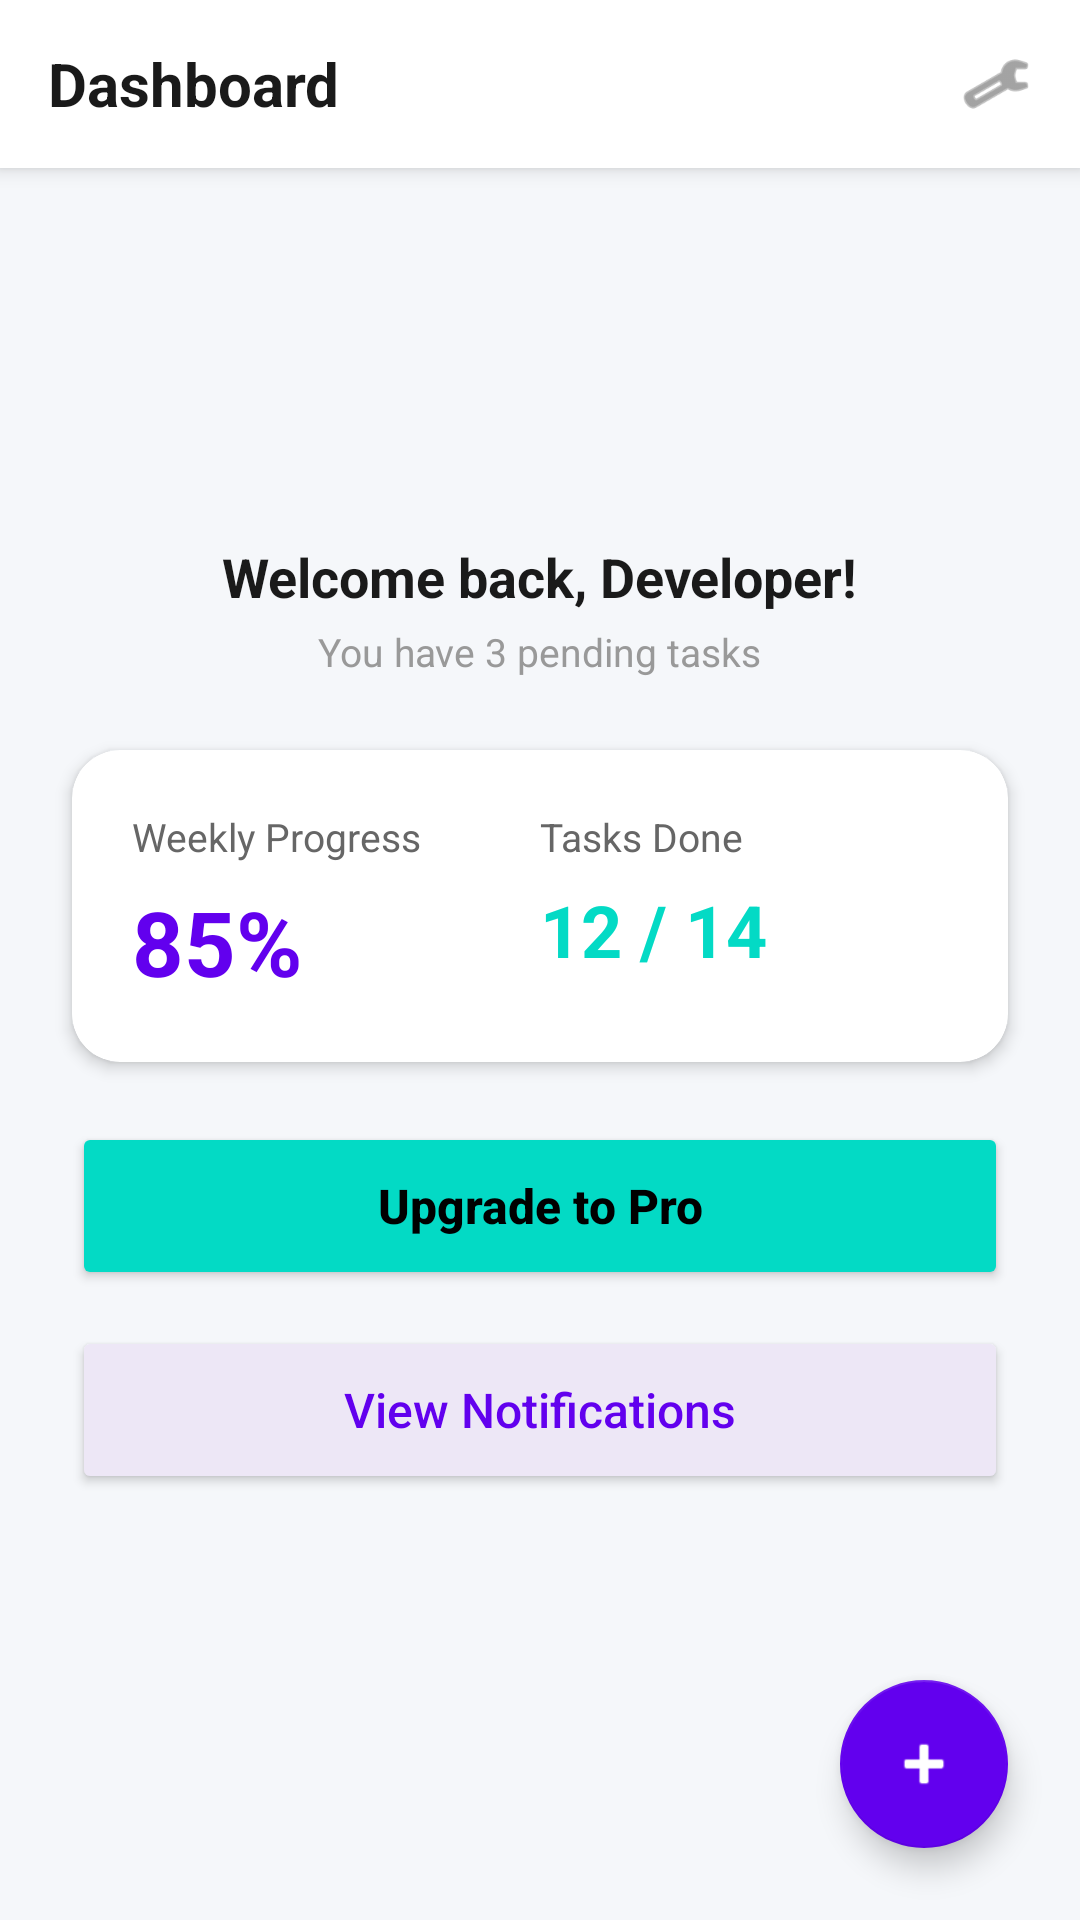

Screen size 1080px×1920px. Icon name, then its box in pixels as (x1, y1, x2, y2):
add: (840, 1680, 1008, 1848)
preferences: (964, 59, 1028, 109)
